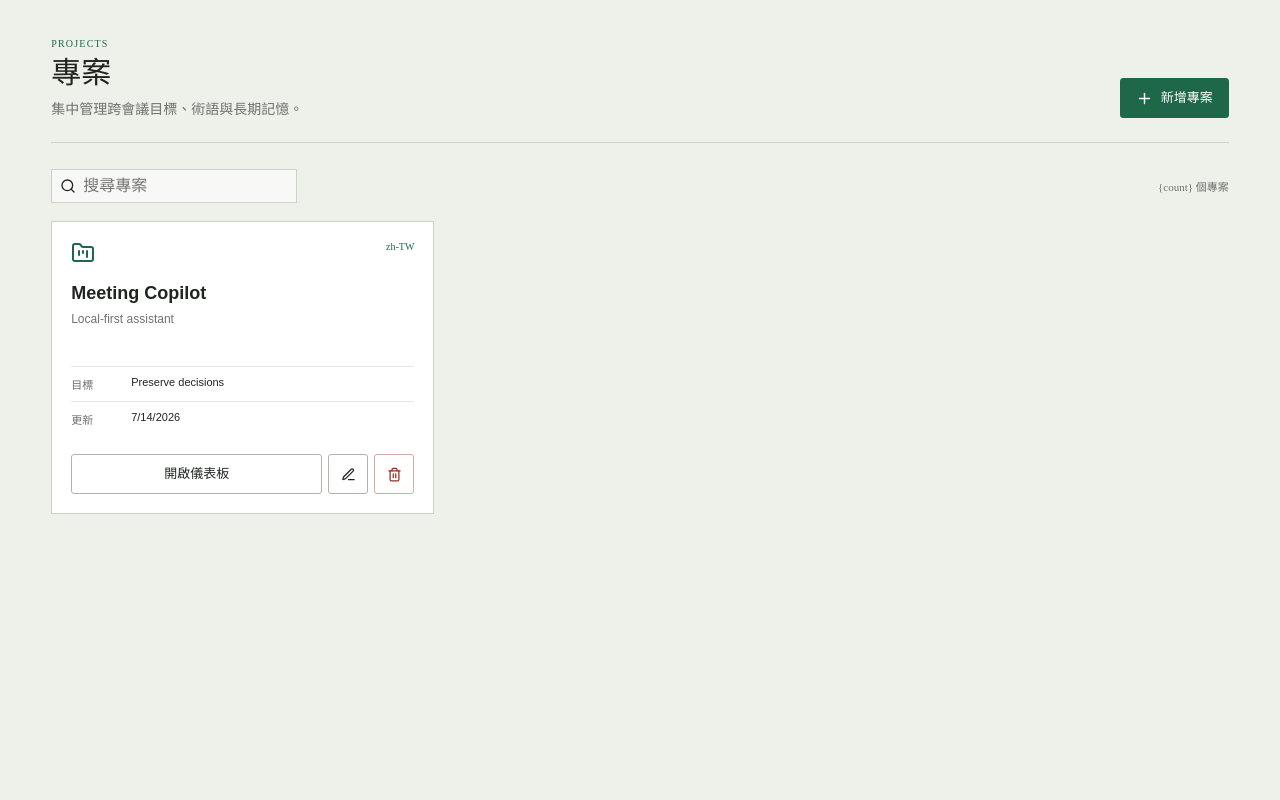
Test: lists projects and opens the create form
Expected: the heading "Meeting Copilot" is shown, [71,283,206,303]
Click the button "新增專案" at (1174, 98), box [1120,78,1229,118]
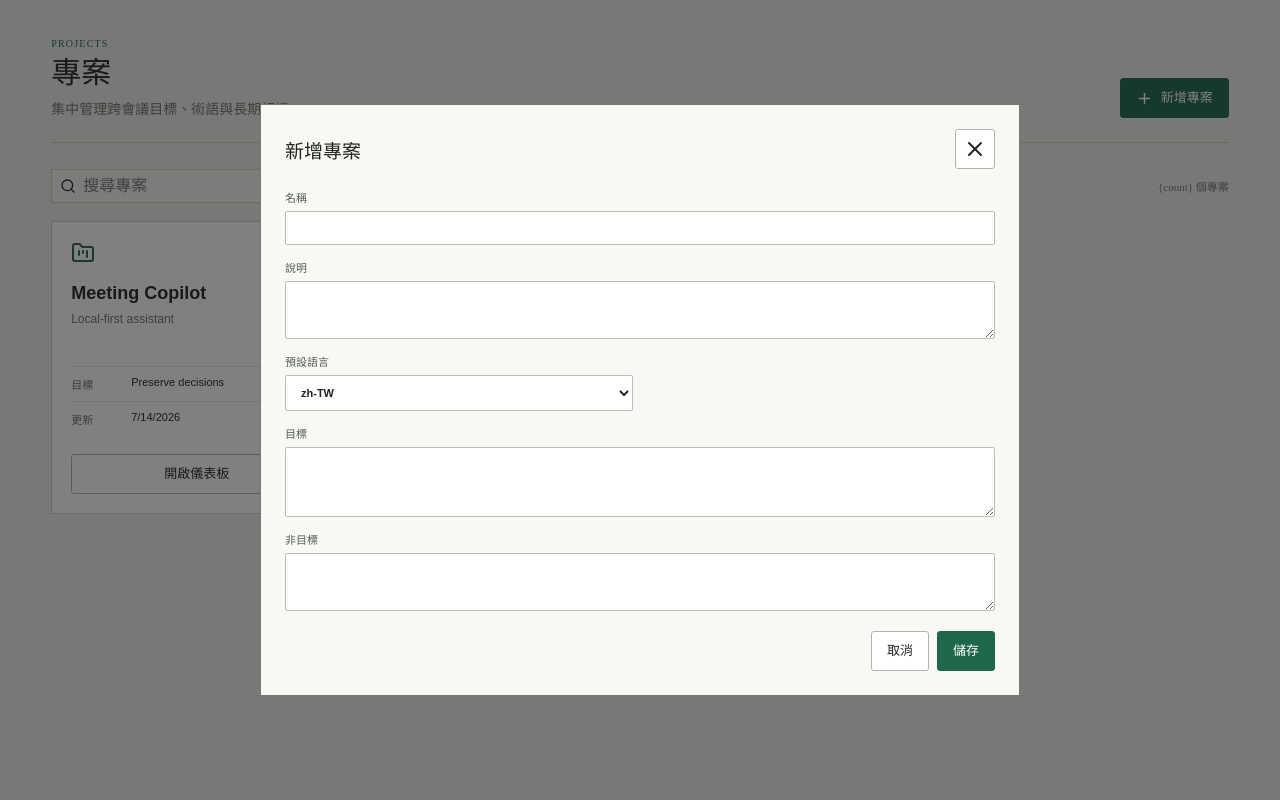
Result: the heading "新增專案" is shown at [285,136,361,162]
